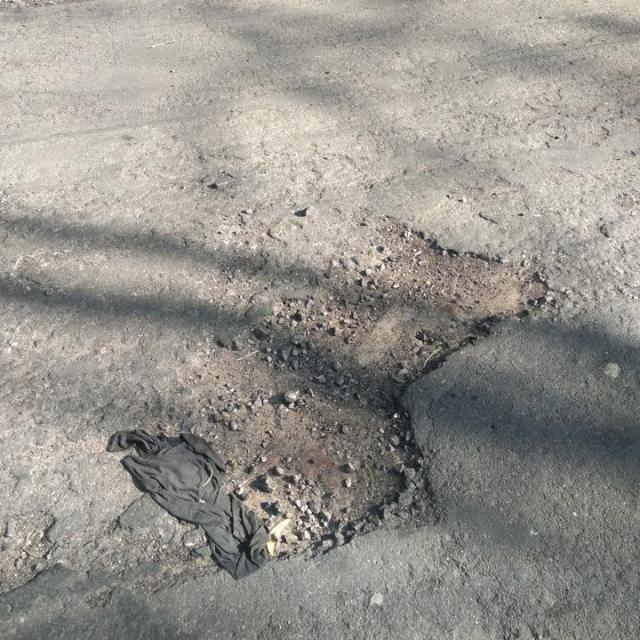Pothole: (163, 216, 558, 571)
